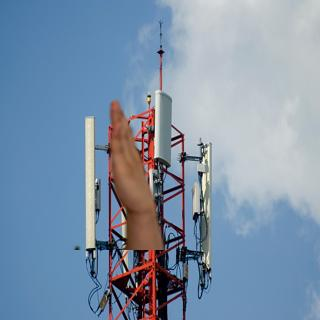RIGHT: (103, 95, 156, 213)
